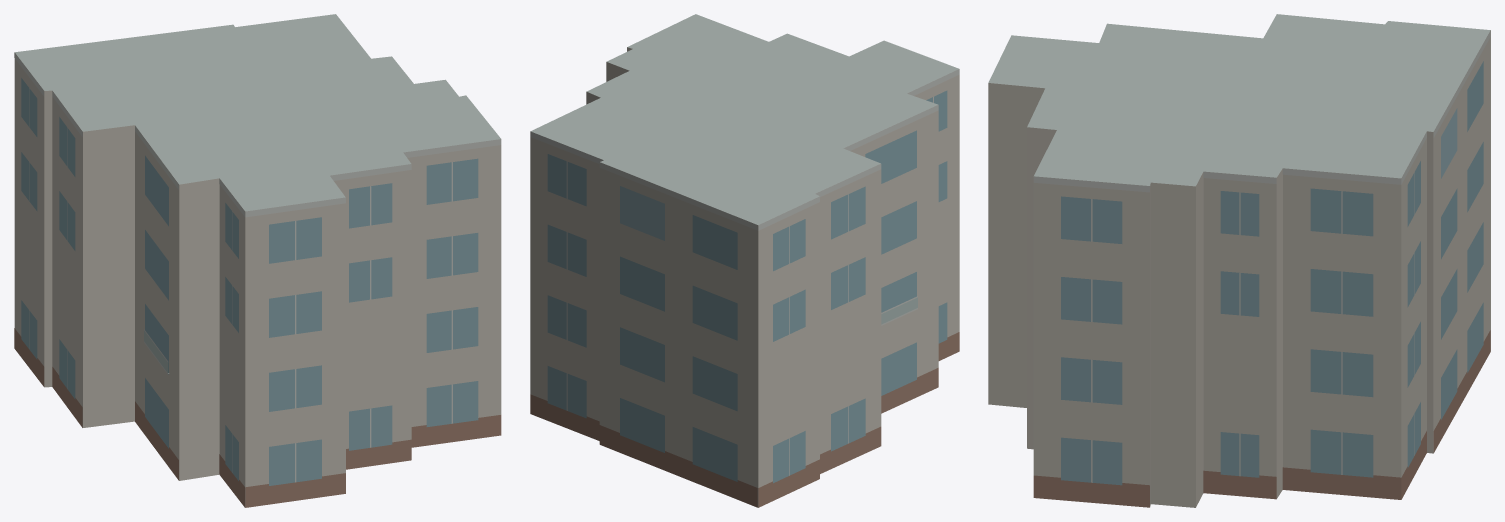
Rendered from survey-upis-32819308.glb.
3 views of the same model, side by side, from view 1: azimuth 30°, elevation 25°; view 2: azimuth 150°, elevation 25°; view 3: azimuth 270°, elevation 25° (orthographic). The views are drawn at different scales.
Parts seen in each view (by area): view 1: survey-upis-32819308.tmp; view 2: survey-upis-32819308.tmp; view 3: survey-upis-32819308.tmp.
Part boxes in pixels (<box>): survey-upis-32819308.tmp: <box>14,14,501,507</box>; survey-upis-32819308.tmp: <box>530,14,959,507</box>; survey-upis-32819308.tmp: <box>988,14,1490,507</box>.
Size of the model in its own units: 14.03 by 12.2 by 17.29.
